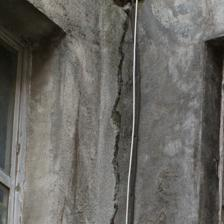Crack: (103, 11, 136, 223)
